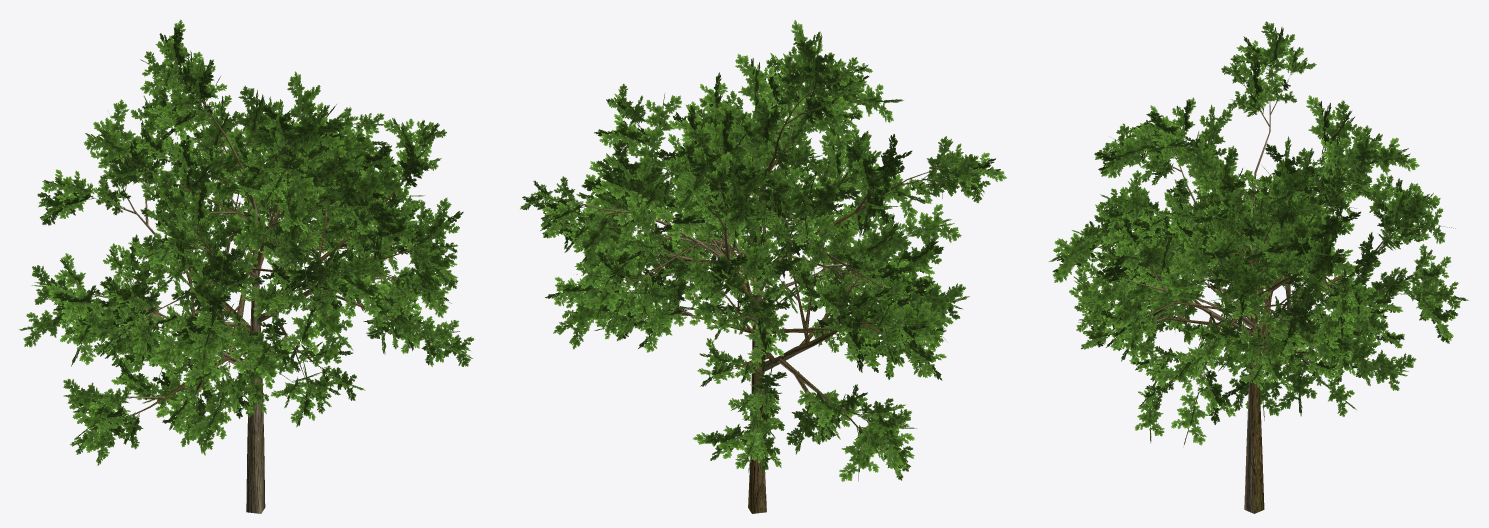
File: tree-oak.glb
3 views of the same model, side by side, from view 1: azimuth 30°, elevation 25°; view 2: azimuth 150°, elevation 25°; view 3: azimuth 270°, elevation 25° (orthographic). The views are drawn at different scales.
Parts seen in each view (by area): view 1: Tree; view 2: Tree; view 3: Tree.
Part boxes in pixels (box(x1,y1,x2,y2)): Tree: box(19, 19, 474, 513); Tree: box(520, 20, 1006, 513); Tree: box(1049, 21, 1468, 513).
Bounding box in the file's own units: 0.8494 × 1 × 0.8579.
2 materials, 2 textured.
